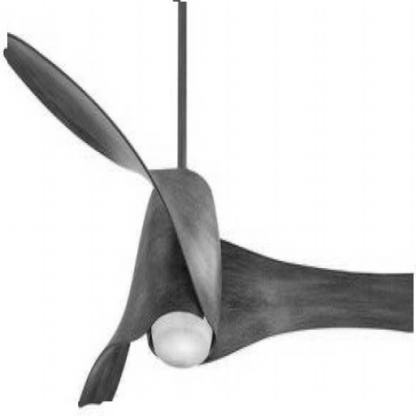ceiling-fan: (7, 2, 414, 402)
